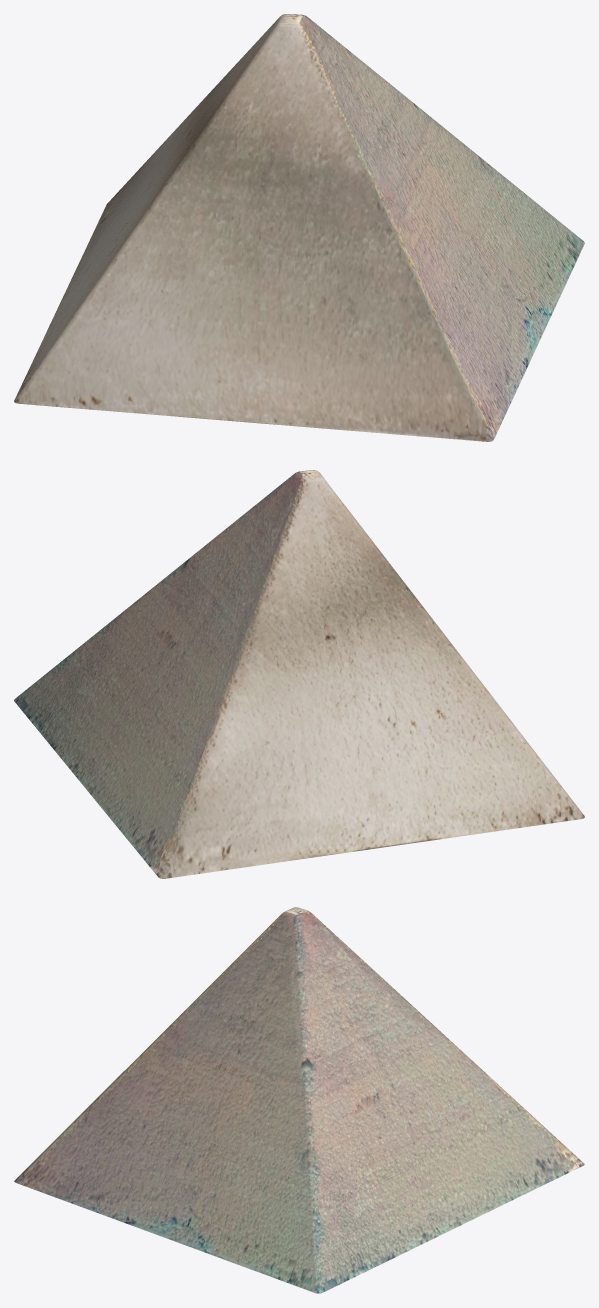
Rendered from 20250702_pyramyds_for_mb_pyramid1.glb.
The picture shows the model from 3 angles, top to bottom: view 1: azimuth 30°, elevation 25°; view 2: azimuth 150°, elevation 25°; view 3: azimuth 270°, elevation 25°; orthographic projection. The views are drawn at different scales.
Visible parts, largest first — view 1: Model.001; view 2: Model.001; view 3: Model.001.
Part boxes in pixels (<box>): Model.001: <box>14,14,584,441</box>; Model.001: <box>14,470,584,878</box>; Model.001: <box>14,907,584,1293</box>.
Size of the model in its own units: 6.11 by 3.04 by 6.08.
Materials: 1 (1 with a texture image).
